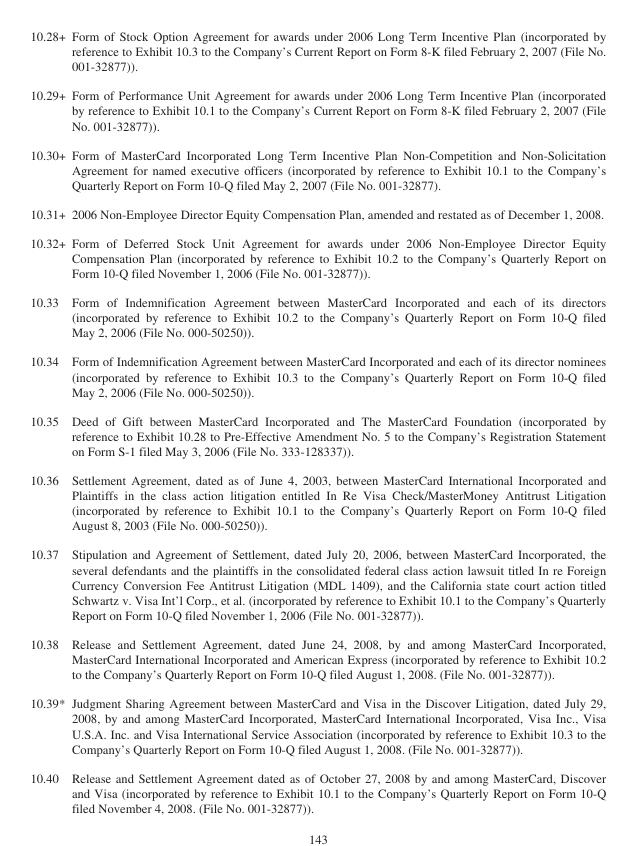table: (29, 28, 605, 814)
table column: (67, 28, 605, 814), (29, 28, 67, 814)
table row: (29, 539, 605, 629), (29, 465, 605, 539), (29, 688, 605, 762), (29, 139, 605, 199), (29, 405, 605, 465), (29, 80, 605, 139), (29, 228, 605, 287), (29, 287, 605, 346), (29, 346, 605, 405), (29, 629, 605, 688), (29, 28, 605, 80), (29, 762, 605, 814), (29, 199, 605, 228)
